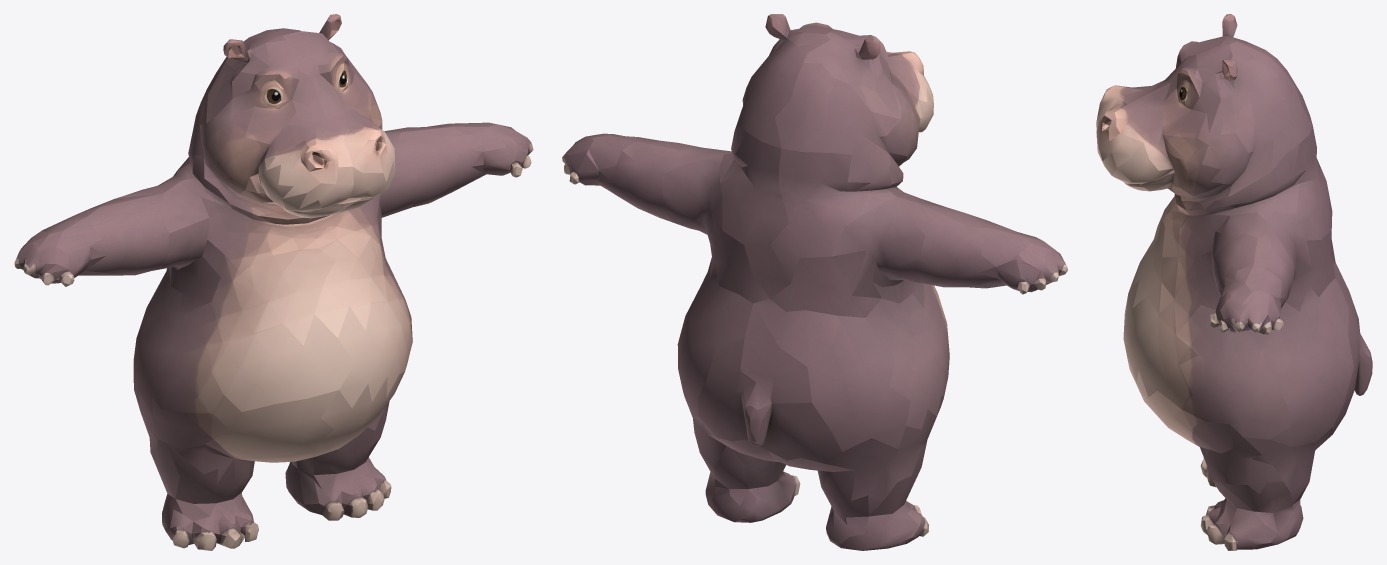
The model's file is hippo-tpose.glb.
The picture shows the model from 3 angles, left to right: view 1: azimuth 30°, elevation 25°; view 2: azimuth 150°, elevation 25°; view 3: azimuth 270°, elevation 25°; orthographic projection. The views are drawn at different scales.
Visible parts, largest first — view 1: output_unwrapped; view 2: output_unwrapped; view 3: output_unwrapped.
Part boxes in pixels (x1=…): output_unwrapped: x1=14, y1=14, x2=533, y2=550; output_unwrapped: x1=562, y1=14, x2=1067, y2=550; output_unwrapped: x1=1096, y1=14, x2=1372, y2=550.
Bounding box in the file's own units: 1.9 × 1.77 × 0.9536.
Materials: 1 (1 with a texture image).
